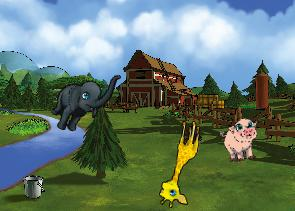elephant: (47, 59, 121, 142)
giraffe: (156, 116, 202, 210)
pig: (219, 117, 263, 164)
